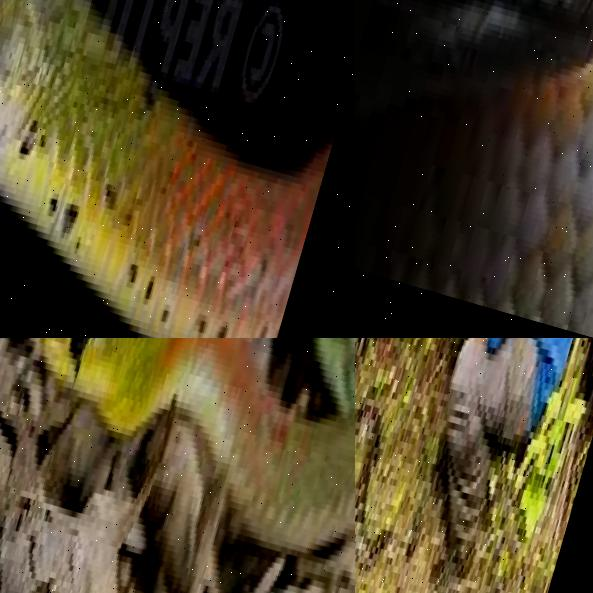snake: (0, 0, 355, 338), (0, 338, 355, 593), (355, 0, 593, 338), (355, 338, 433, 593)
